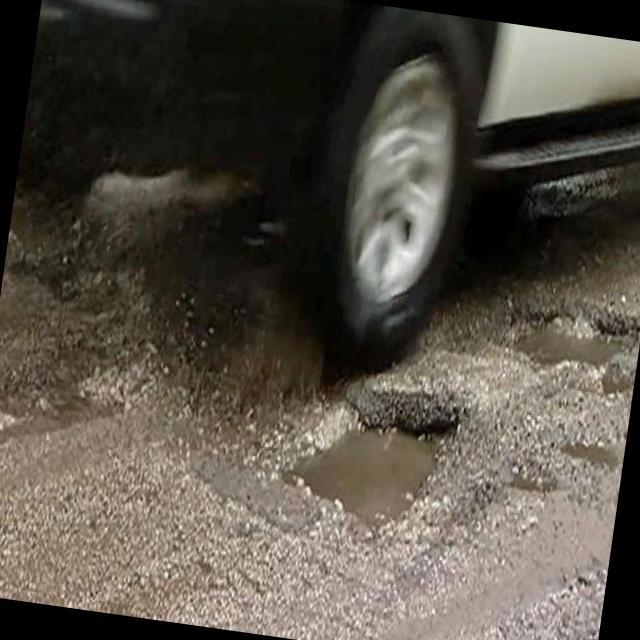Pothole: (272, 382, 468, 534), (485, 286, 640, 399)
